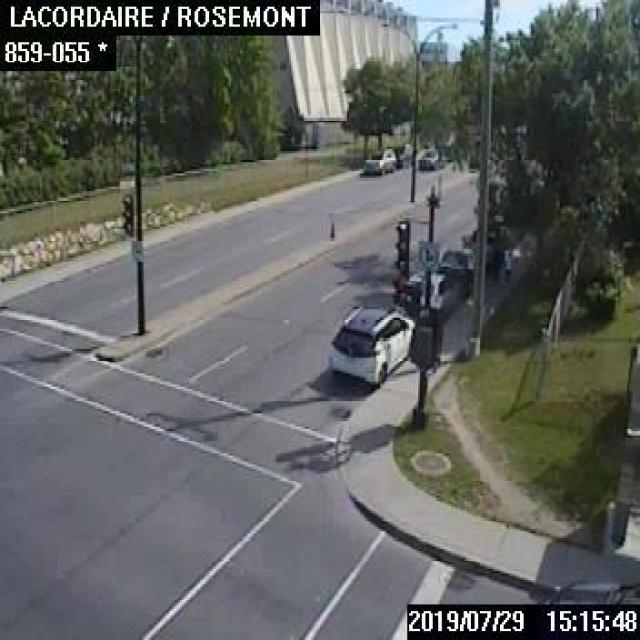vehicle: (328, 304, 413, 386), (407, 274, 458, 321), (546, 579, 638, 605), (437, 246, 473, 291), (362, 146, 394, 173), (416, 148, 444, 168), (388, 142, 411, 166)
